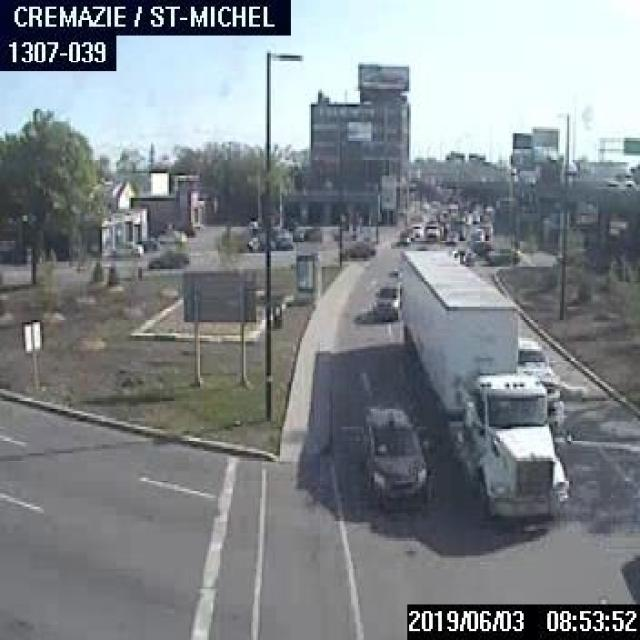vehicle: (398, 245, 568, 518), (360, 402, 425, 502), (514, 335, 554, 379), (370, 282, 400, 321), (146, 247, 189, 269), (336, 238, 376, 258), (484, 246, 520, 264), (156, 228, 187, 244), (108, 240, 142, 254), (423, 222, 441, 238), (136, 237, 158, 248), (445, 229, 458, 243), (410, 222, 422, 237), (454, 222, 466, 237)
